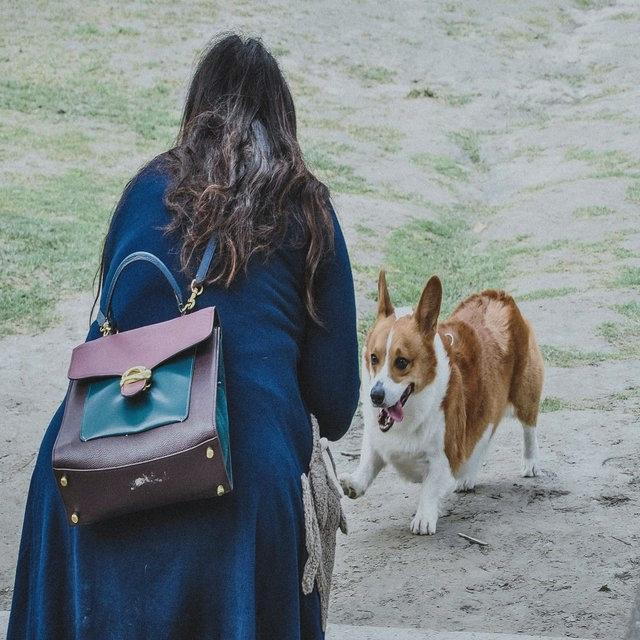corgi: (338, 269, 546, 536)
